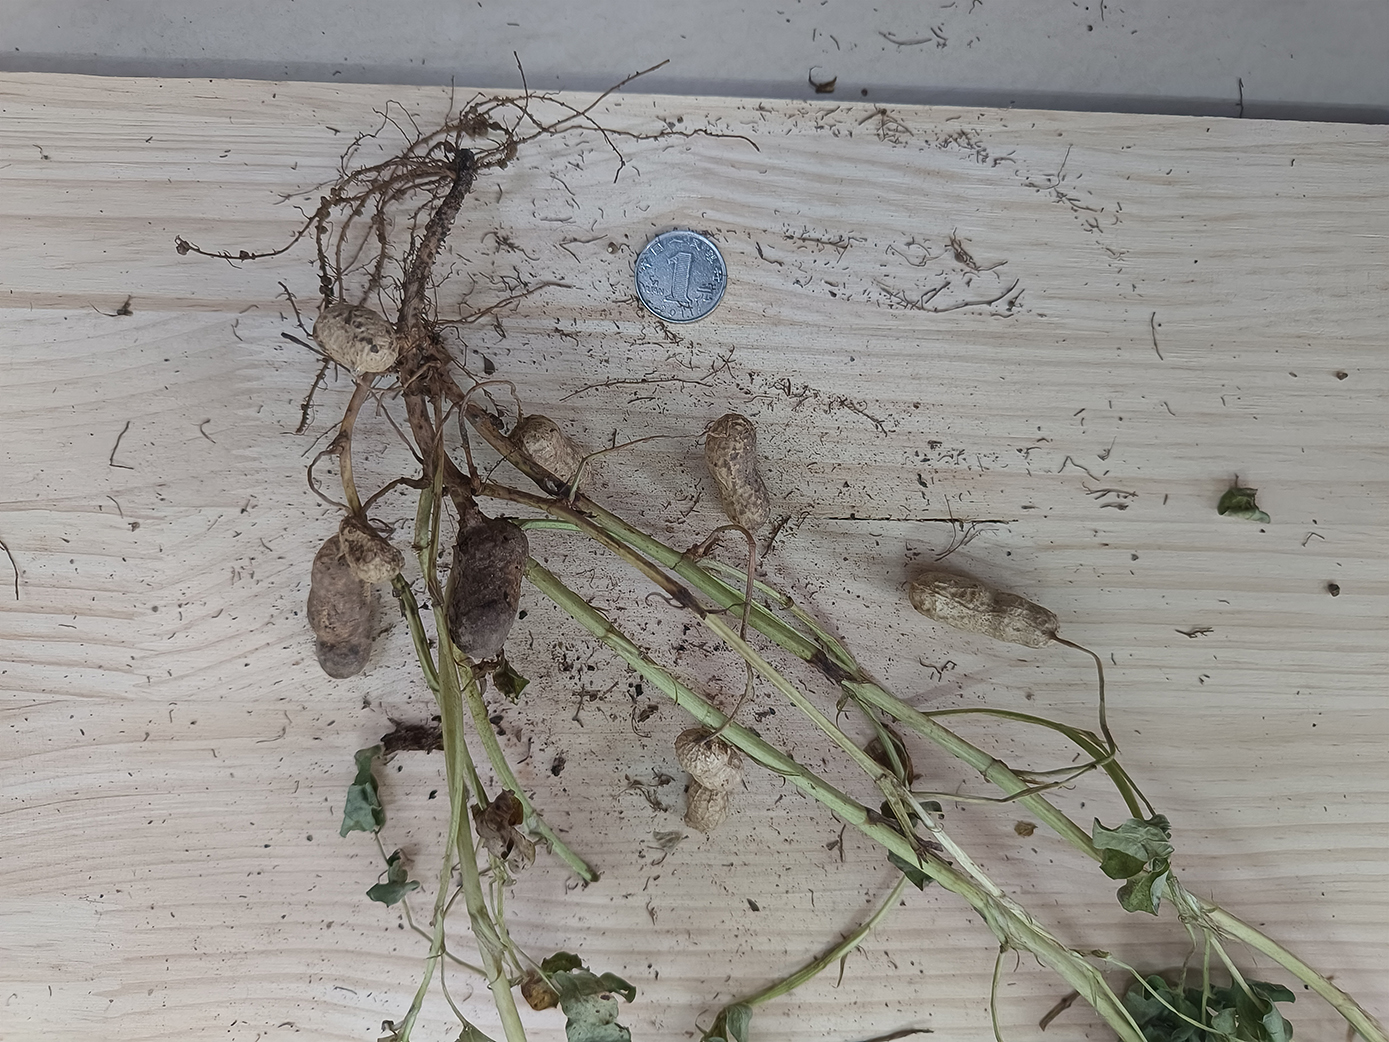h: (911, 569, 1060, 650), (706, 415, 769, 533), (675, 731, 742, 833), (512, 415, 589, 493), (314, 303, 396, 372), (340, 517, 402, 581)
l: (447, 519, 528, 656), (306, 537, 374, 679)
